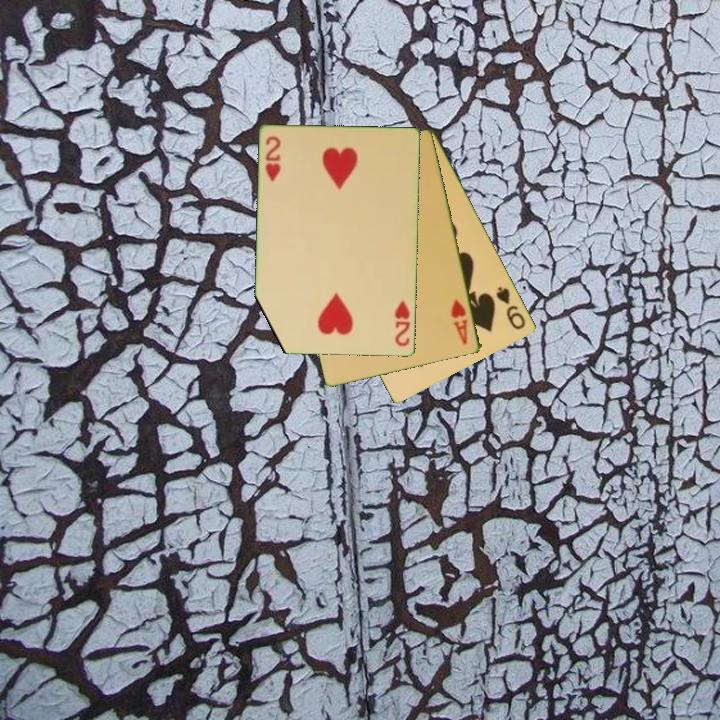2h: (391, 297, 414, 349), (262, 133, 283, 185)
9s: (493, 283, 529, 333)
Ah: (448, 296, 471, 348)
